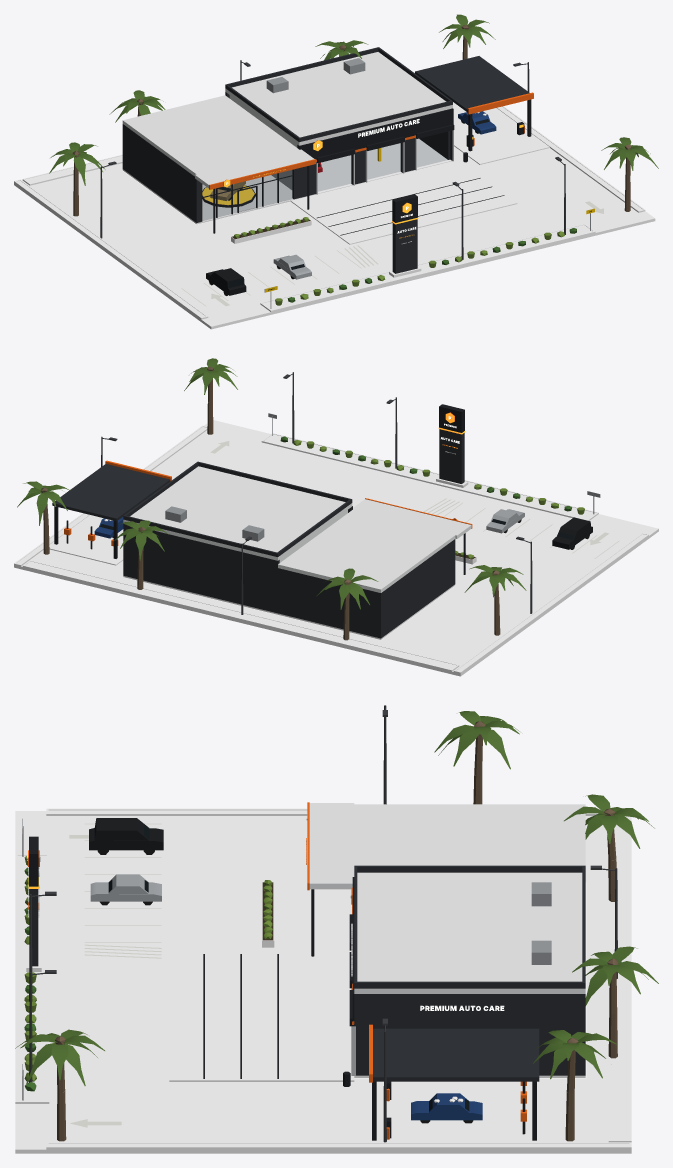
Rendered from premium_auto_care_lod1.glb.
3 renders of one model, top to bottom at view 1: azimuth 30°, elevation 25°; view 2: azimuth 150°, elevation 25°; view 3: azimuth 270°, elevation 25°, orthographic. The views are drawn at different scales.
Parts seen in each view (by area): view 1: PAC_LOD1_Ground, PAC_LOD1_Building, PAC_LOD1_Landscape, PAC_LOD1_Interior, PAC_LOD1_Canopy, PAC_LOD1_Glass, PAC_LOD1_Vehicles, PAC_LOD1_Pylon, PAC_LOD1_Markings, PAC_LOD1_LampPosts, PAC_LOD1_Furniture, PAC_LOD1_Signage (+1 smaller); view 2: PAC_LOD1_Ground, PAC_LOD1_Building, PAC_LOD1_Landscape, PAC_LOD1_Canopy, PAC_LOD1_Pylon, PAC_LOD1_Vehicles, PAC_LOD1_LampPosts, PAC_LOD1_Markings; view 3: PAC_LOD1_Ground, PAC_LOD1_Building, PAC_LOD1_Landscape, PAC_LOD1_Canopy, PAC_LOD1_Vehicles, PAC_LOD1_Markings, PAC_LOD1_LampPosts, PAC_LOD1_Pylon, PAC_LOD1_Furniture, PAC_LOD1_Signage.
Part boxes in pixels (x1,y1,x2,y2): PAC_LOD1_Ground: [14, 102, 655, 329]; PAC_LOD1_Building: [122, 47, 454, 233]; PAC_LOD1_Landscape: [49, 14, 658, 305]; PAC_LOD1_Interior: [202, 95, 447, 219]; PAC_LOD1_Canopy: [415, 56, 533, 151]; PAC_LOD1_Glass: [202, 170, 292, 220]; PAC_LOD1_Vehicles: [206, 111, 496, 295]; PAC_LOD1_Pylon: [389, 194, 421, 277]; PAC_LOD1_Markings: [181, 178, 603, 306]; PAC_LOD1_LampPosts: [100, 60, 565, 259]; PAC_LOD1_Furniture: [231, 152, 467, 243]; PAC_LOD1_Signage: [223, 119, 594, 308]; PAC_LOD1_Ground: [14, 420, 658, 676]; PAC_LOD1_Building: [123, 461, 472, 639]; PAC_LOD1_Landscape: [17, 358, 584, 640]; PAC_LOD1_Canopy: [52, 460, 171, 558]; PAC_LOD1_Pylon: [436, 404, 468, 487]; PAC_LOD1_Vehicles: [94, 509, 592, 549]; PAC_LOD1_LampPosts: [101, 372, 532, 614]; PAC_LOD1_Markings: [210, 441, 619, 558]; PAC_LOD1_Ground: [15, 808, 631, 1153]; PAC_LOD1_Building: [307, 802, 585, 1077]; PAC_LOD1_Landscape: [15, 711, 658, 1141]; PAC_LOD1_Canopy: [369, 1024, 539, 1140]; PAC_LOD1_Vehicles: [89, 818, 482, 1123]; PAC_LOD1_Markings: [69, 823, 278, 1127]; PAC_LOD1_LampPosts: [29, 705, 617, 1142]; PAC_LOD1_Pylon: [26, 836, 41, 971]; PAC_LOD1_Furniture: [262, 880, 350, 1086]; PAC_LOD1_Signage: [22, 812, 504, 1100].
Size of what is drawn, in the model's own units: 55.17 by 8.75 by 41.86.
